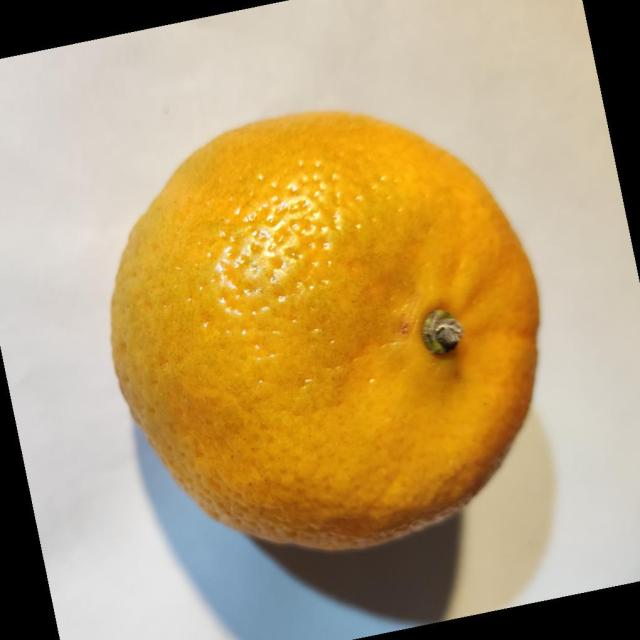fresh orange: (109, 109, 541, 552)
